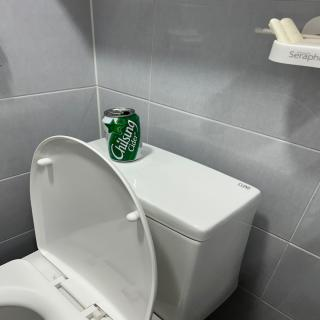cocacola: (98, 104, 146, 164)
